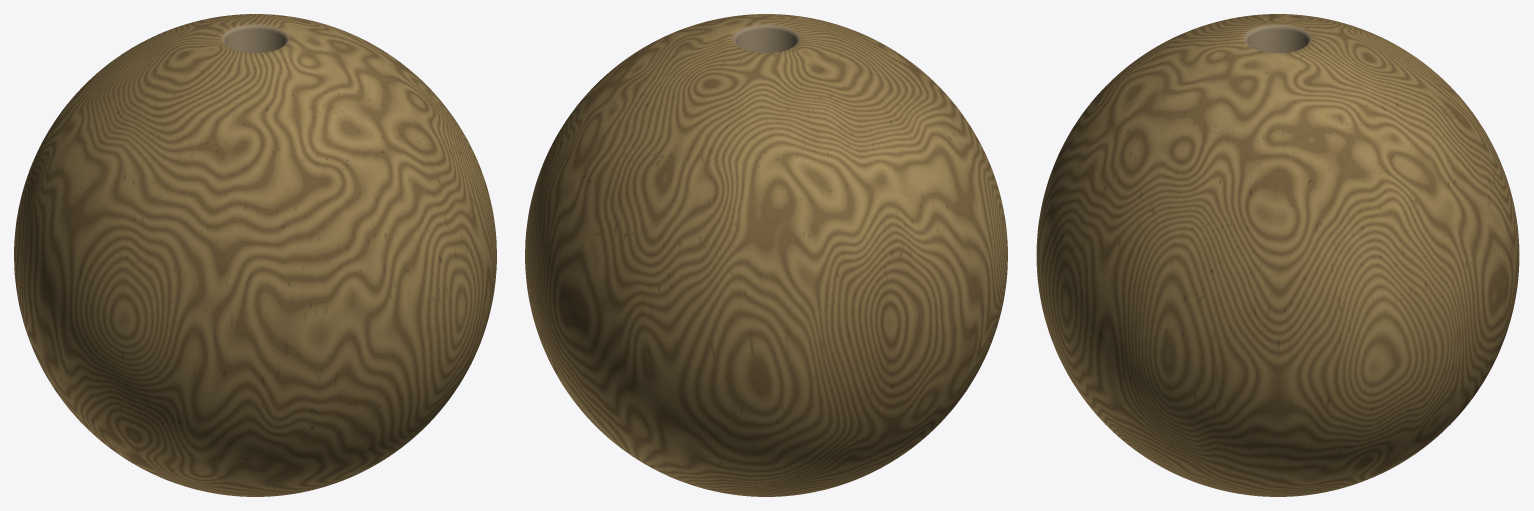
The model's file is golden-nan-reference-8mm.glb.
3 views of the same model, side by side, from view 1: azimuth 30°, elevation 25°; view 2: azimuth 150°, elevation 25°; view 3: azimuth 270°, elevation 25° (orthographic).
Visible parts, largest first — view 1: golden-nan-reference; view 2: golden-nan-reference; view 3: golden-nan-reference.
Part boxes in pixels (box(x1,y1,x2,y2)): golden-nan-reference: box(14, 14, 496, 496); golden-nan-reference: box(525, 14, 1007, 496); golden-nan-reference: box(1036, 14, 1519, 496).
Size of the model in its own units: 0.008 by 0.00792 by 0.008.
Materials: 2 (1 with a texture image).
